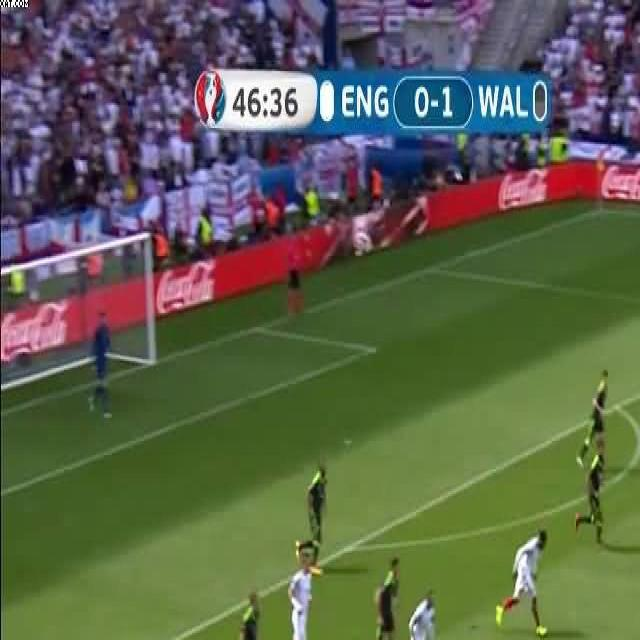player-white: (495, 530, 548, 638), (295, 460, 327, 576), (360, 556, 399, 640), (576, 369, 608, 468), (575, 442, 605, 543), (281, 553, 311, 640), (89, 314, 112, 420), (393, 588, 439, 640), (237, 592, 263, 640), (288, 251, 304, 321)
